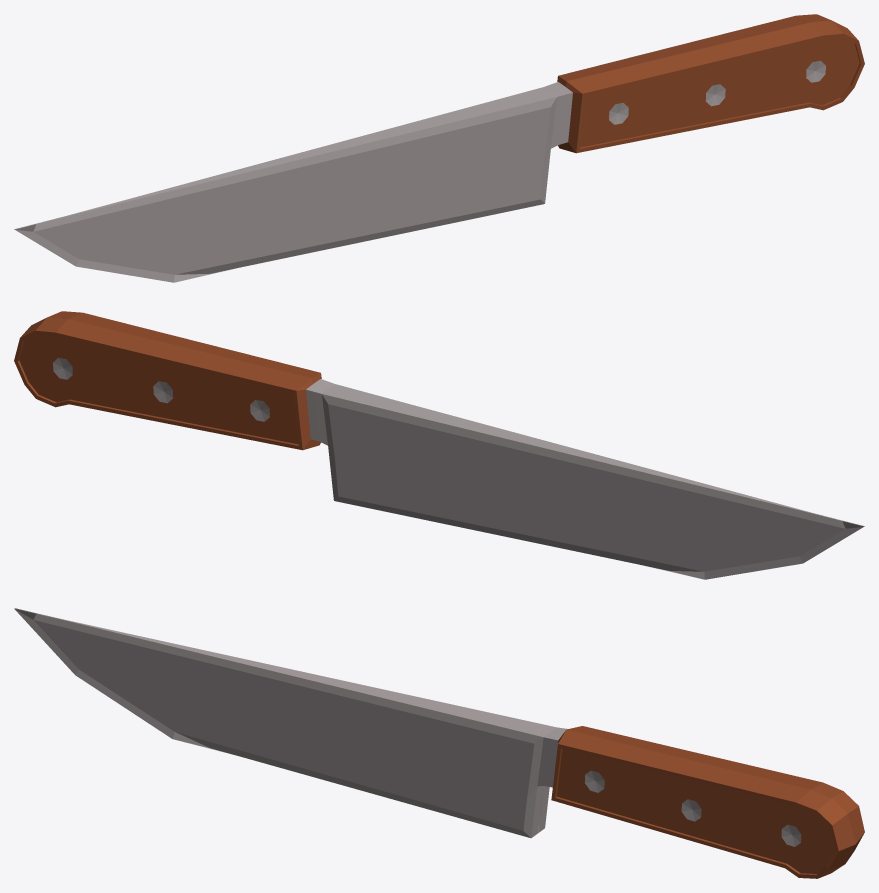
File: Knife.fbx
The picture shows the model from 3 angles, top to bottom: view 1: azimuth 30°, elevation 25°; view 2: azimuth 150°, elevation 25°; view 3: azimuth 330°, elevation 25°; orthographic projection.
Parts seen in each view (by area): view 1: Knife; view 2: Knife; view 3: Knife.
Boxes of the visible parts, bbox=[...] form: Knife: bbox=[14, 14, 864, 282]; Knife: bbox=[14, 311, 864, 579]; Knife: bbox=[14, 608, 864, 878].
Size of the model in its own units: 5.09 by 0.2853 by 0.6398.
